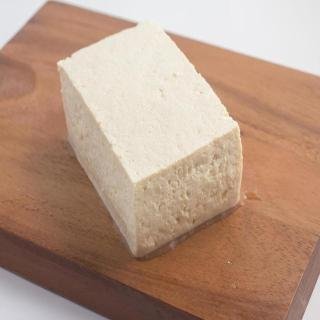Tahu: (36, 14, 267, 272)
